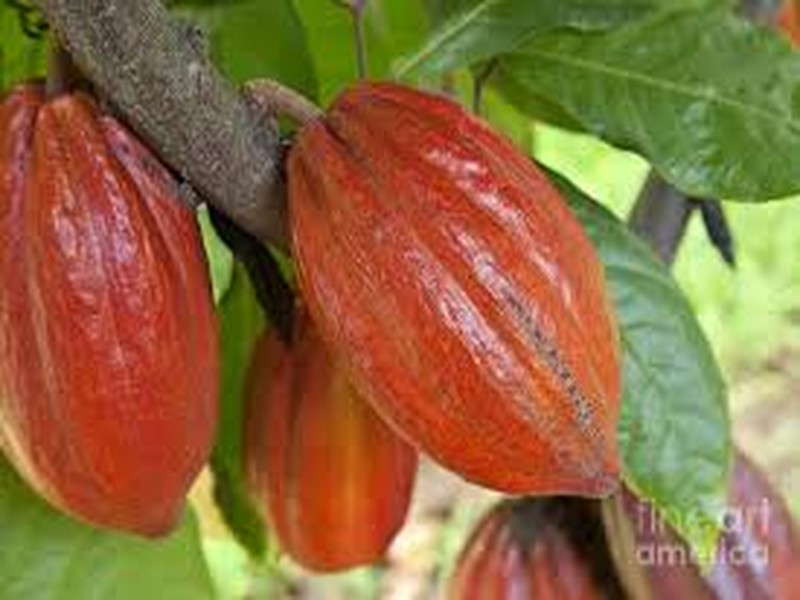Cacaopod: (288, 80, 624, 500)
